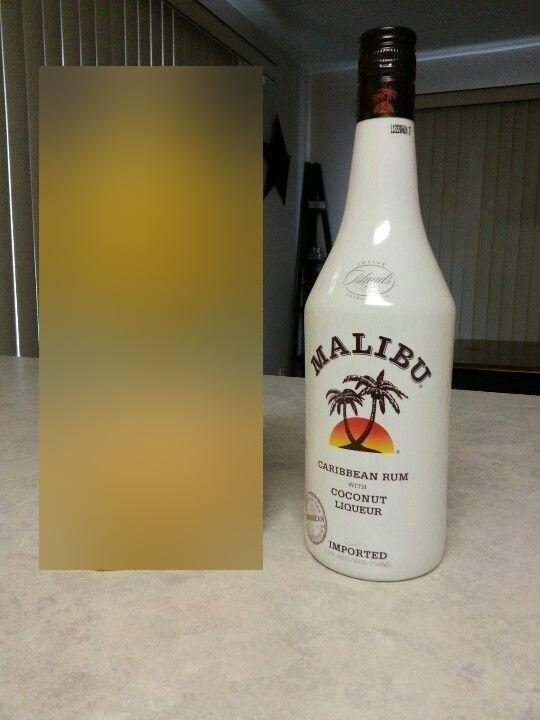bottle-glass: (297, 21, 460, 590)
